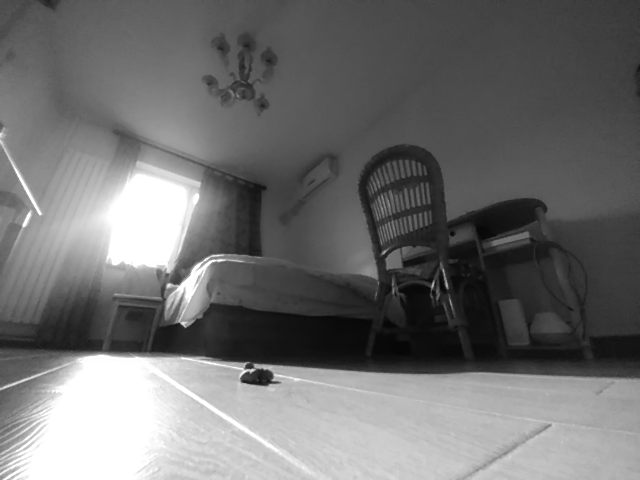curtain: (41, 133, 140, 353)
pet feces: (239, 360, 273, 387)
